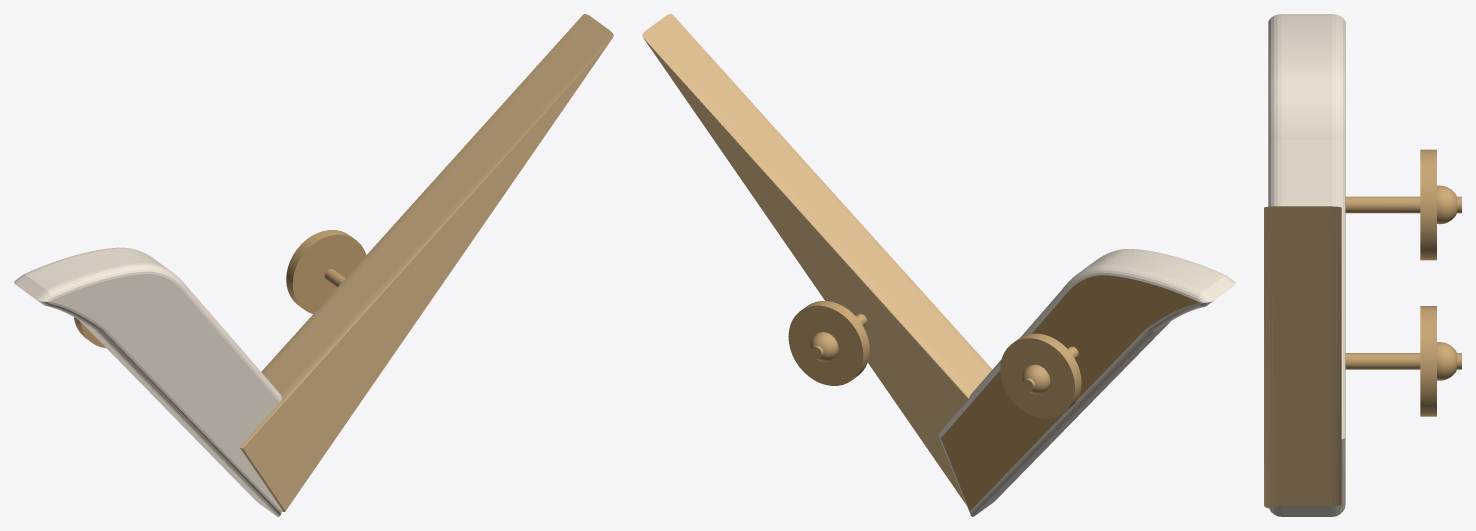
File: rova-pin.glb
The picture shows the model from 3 angles, left to right: view 1: azimuth 30°, elevation 25°; view 2: azimuth 150°, elevation 25°; view 3: azimuth 270°, elevation 25°; orthographic projection. The views are drawn at different scales.
Bounding box in the file's own units: 0.0393 × 0.0266 × 0.00923.
